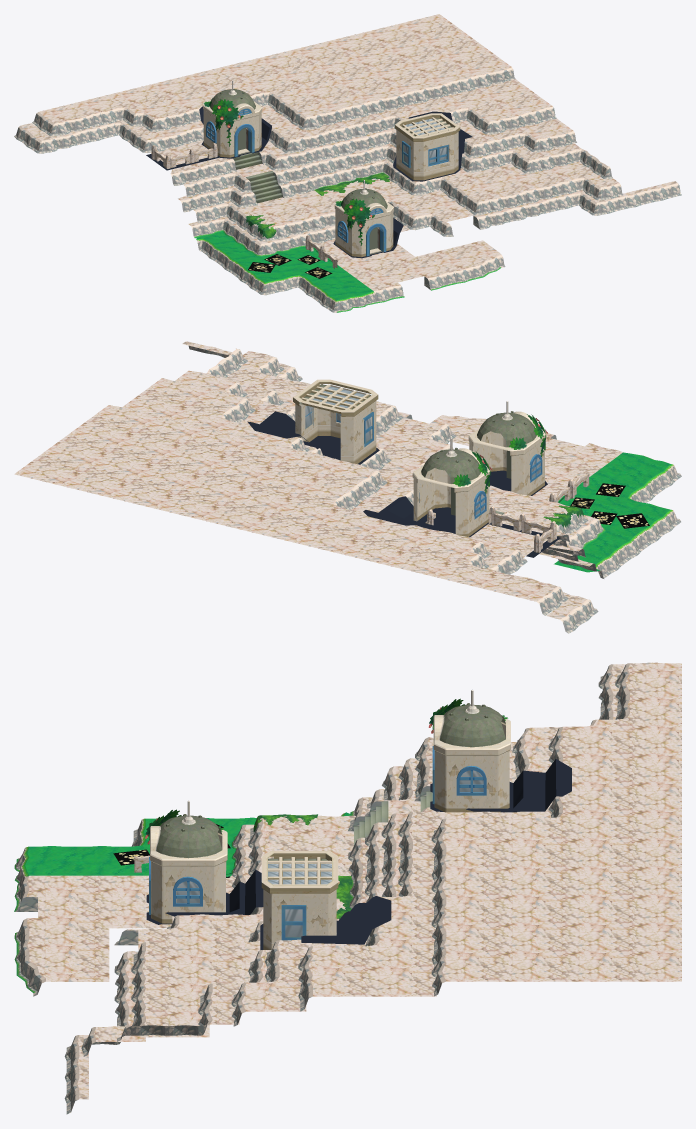
3 views of the same model, one above another, from view 1: azimuth 30°, elevation 25°; view 2: azimuth 150°, elevation 25°; view 3: azimuth 270°, elevation 25° (orthographic). The views are drawn at different scales.
Parts seen in each view (by area): view 1: vsn_mesh_4_mesh4, vsn_mesh_5_mesh5, vsn_mesh_1_mesh1, vsn_mesh_0_mesh0, vsn_mesh_7_mesh7, vsn_mesh_10_mesh10, vsn_mesh_6_mesh6, vsn_mesh_9_mesh9, vsn_mesh_8_mesh8, vsn_mesh_3_mesh3; view 2: vsn_mesh_4_mesh4, vsn_mesh_5_mesh5, vsn_mesh_1_mesh1, vsn_mesh_0_mesh0, vsn_mesh_7_mesh7, vsn_mesh_10_mesh10, vsn_mesh_8_mesh8, vsn_mesh_6_mesh6, vsn_mesh_3_mesh3; view 3: vsn_mesh_4_mesh4, vsn_mesh_5_mesh5, vsn_mesh_1_mesh1, vsn_mesh_0_mesh0, vsn_mesh_10_mesh10, vsn_mesh_7_mesh7, vsn_mesh_3_mesh3, vsn_mesh_9_mesh9, vsn_mesh_2_mesh2.
Part boxes in pixels (x1,y1,x2,y2): vsn_mesh_4_mesh4: (21,14,677,290); vsn_mesh_5_mesh5: (14,67,681,312); vsn_mesh_1_mesh1: (203,80,458,257); vsn_mesh_0_mesh0: (151,89,460,268); vsn_mesh_7_mesh7: (196,231,372,299); vsn_mesh_10_mesh10: (146,106,472,258); vsn_mesh_6_mesh6: (203,98,374,245); vsn_mesh_9_mesh9: (245,173,389,238); vsn_mesh_8_mesh8: (248,247,337,278); vsn_mesh_3_mesh3: (207,110,446,239); vsn_mesh_4_mesh4: (14,341,622,619); vsn_mesh_5_mesh5: (128,341,681,633); vsn_mesh_1_mesh1: (295,384,545,536); vsn_mesh_0_mesh0: (293,379,589,552); vsn_mesh_7_mesh7: (554,452,670,572); vsn_mesh_10_mesh10: (247,411,560,557); vsn_mesh_8_mesh8: (558,483,649,528); vsn_mesh_6_mesh6: (453,414,547,493); vsn_mesh_3_mesh3: (305,386,540,515); vsn_mesh_4_mesh4: (26,662,681,1099); vsn_mesh_5_mesh5: (14,663,629,1114); vsn_mesh_1_mesh1: (150,689,510,949); vsn_mesh_0_mesh0: (134,704,505,940); vsn_mesh_10_mesh10: (146,759,571,949); vsn_mesh_7_mesh7: (25,812,350,875); vsn_mesh_3_mesh3: (176,770,483,936); vsn_mesh_9_mesh9: (253,814,352,918); vsn_mesh_2_mesh2: (173,765,486,906).
Bounding box in the file's own units: 972 × 235 × 721.
